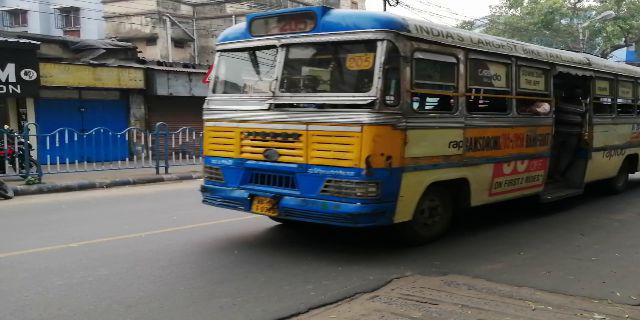Bus: (207, 10, 633, 243)
